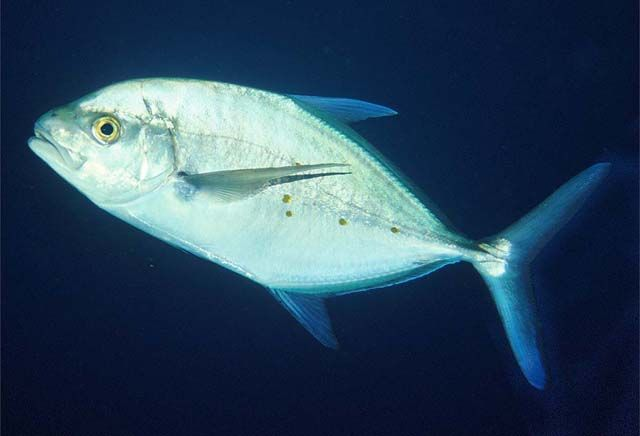fish: (28, 77, 612, 390)
